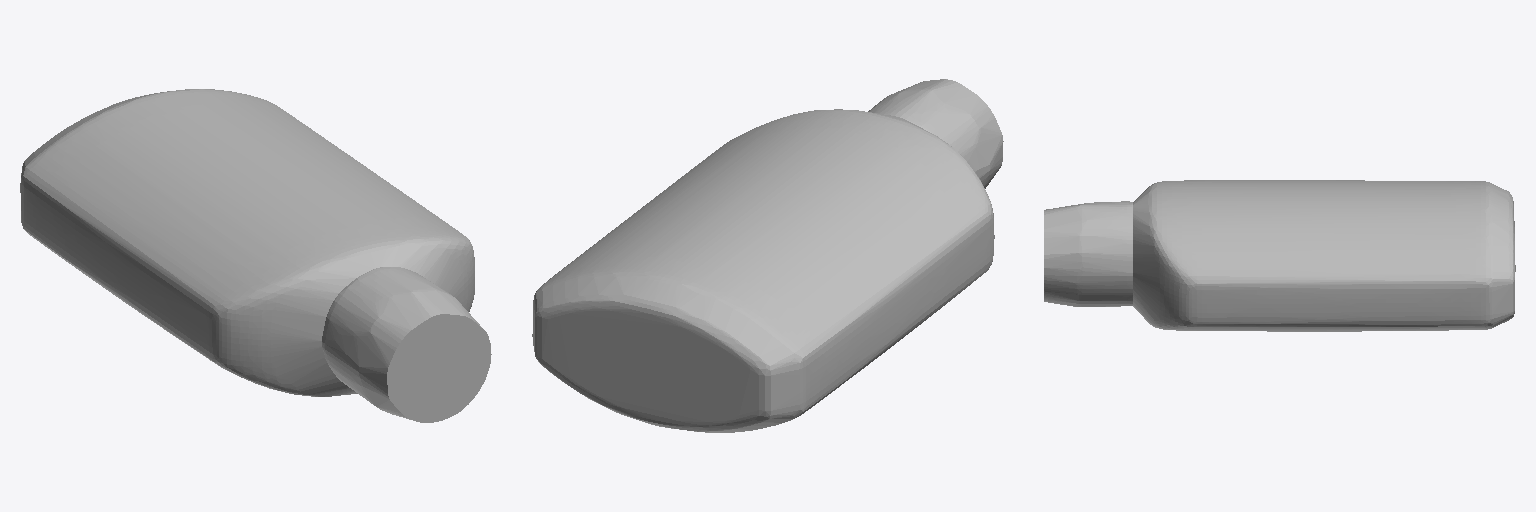
robot.urdf — root:
<robot name="root">
  <link name="link_coacd_convex_piece_0">
    <inertial>
      <origin xyz="0 0 0" rpy="0 0 0"/>
      <inertia ixx="2.41E-07" ixy="1.98E-09" ixz="-5.95E-10" iyy="7.54E-08" iyz="1.47E-09" izz="2.85E-07"/>
    </inertial>
    <visual>
      <origin xyz="0 0 0" rpy="0 0 0"/>
      <geometry>
        <mesh filename="coacd_convex_piece_0.obj" scale="1.0000E+00 1.0000E+00 1.0000E+00"/>
      </geometry>
      <material name="">
        <color rgba="7.50E-01 7.50E-01 7.50E-01 1"/>
      </material>
    </visual>
    <collision>
      <origin xyz="0 0 0" rpy="0 0 0"/>
      <geometry>
        <mesh filename="coacd_convex_piece_0.obj" scale="1.0000E+00 1.0000E+00 1.0000E+00"/>
      </geometry>
    </collision>
  </link>
  <link name="link_coacd_convex_piece_1">
    <inertial>
      <origin xyz="0 0 0" rpy="0 0 0"/>
      <inertia ixx="2.66E-08" ixy="-1.88E-09" ixz="-7.98E-11" iyy="1.04E-09" iyz="-4.99E-10" izz="2.72E-08"/>
    </inertial>
    <visual>
      <origin xyz="0 0 0" rpy="0 0 0"/>
      <geometry>
        <mesh filename="coacd_convex_piece_1.obj" scale="1.0000E+00 1.0000E+00 1.0000E+00"/>
      </geometry>
      <material name="">
        <color rgba="7.50E-01 7.50E-01 7.50E-01 1"/>
      </material>
    </visual>
    <collision>
      <origin xyz="0 0 0" rpy="0 0 0"/>
      <geometry>
        <mesh filename="coacd_convex_piece_1.obj" scale="1.0000E+00 1.0000E+00 1.0000E+00"/>
      </geometry>
    </collision>
  </link>
  <joint name="link_coacd_convex_piece_1_joint" type="fixed">
    <origin xyz="0 0 0" rpy="0 0 0"/>
    <parent link="link_coacd_convex_piece_0"/>
    <child link="link_coacd_convex_piece_1"/>
  </joint>
  <link name="link_coacd_convex_piece_2">
    <inertial>
      <origin xyz="0 0 0" rpy="0 0 0"/>
      <inertia ixx="4.17E-08" ixy="7.61E-10" ixz="-5.18E-12" iyy="1.86E-09" iyz="4.27E-10" izz="4.18E-08"/>
    </inertial>
    <visual>
      <origin xyz="0 0 0" rpy="0 0 0"/>
      <geometry>
        <mesh filename="coacd_convex_piece_2.obj" scale="1.0000E+00 1.0000E+00 1.0000E+00"/>
      </geometry>
      <material name="">
        <color rgba="7.50E-01 7.50E-01 7.50E-01 1"/>
      </material>
    </visual>
    <collision>
      <origin xyz="0 0 0" rpy="0 0 0"/>
      <geometry>
        <mesh filename="coacd_convex_piece_2.obj" scale="1.0000E+00 1.0000E+00 1.0000E+00"/>
      </geometry>
    </collision>
  </link>
  <joint name="link_coacd_convex_piece_2_joint" type="fixed">
    <origin xyz="0 0 0" rpy="0 0 0"/>
    <parent link="link_coacd_convex_piece_1"/>
    <child link="link_coacd_convex_piece_2"/>
  </joint>
</robot>

--- What the picture shows (computed from the rendered views, not written in the file) ---
3 views of the same robot in one strip: view 1: azimuth 30°, elevation 25°; view 2: azimuth 150°, elevation 25°; view 3: azimuth 270°, elevation 25° (orthographic).
Robot: root — 3 links, 2 joints (2 fixed); root link link_coacd_convex_piece_0; default pose: all joints at 0.
Visible links, largest first — view 1: link_coacd_convex_piece_0, link_coacd_convex_piece_2; view 2: link_coacd_convex_piece_0, link_coacd_convex_piece_2; view 3: link_coacd_convex_piece_0, link_coacd_convex_piece_2.
Boxes of the visible links, bbox=[...] form: link_coacd_convex_piece_0: bbox=[20, 89, 474, 396]; link_coacd_convex_piece_2: bbox=[322, 267, 491, 422]; link_coacd_convex_piece_0: bbox=[532, 109, 994, 432]; link_coacd_convex_piece_2: bbox=[868, 79, 1003, 188]; link_coacd_convex_piece_0: bbox=[1133, 180, 1515, 331]; link_coacd_convex_piece_2: bbox=[1044, 201, 1132, 306].
Bounding box of the posed robot: 0.0706 × 0.1374 × 0.0369 m (x, y, z).
Meshes: 3 distinct files referenced, 2 mesh visuals loaded (2 OBJ); not drawn: 1 (reference not matched to a file when rendering).